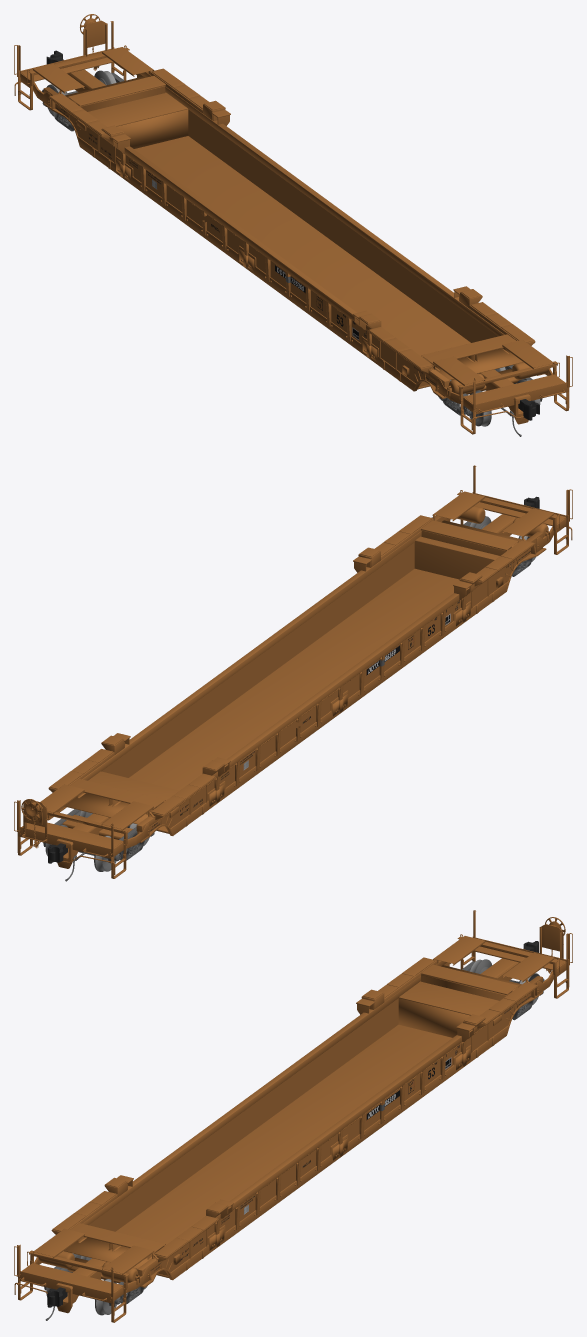
Rendered from wellcar_ttx.glb.
3 views of the same model, one above another, from view 1: azimuth 30°, elevation 25°; view 2: azimuth 150°, elevation 25°; view 3: azimuth 330°, elevation 25° (orthographic).
Parts seen in each view (by area): view 1: Body_Body.001; view 2: Body_Body.001, Truck_Rear_Truck_Rear.001; view 3: Body_Body.001.
Part boxes in pixels (x1,y1,x2,y2): Body_Body.001: [14, 14, 572, 436]; Body_Body.001: [14, 465, 572, 881]; Truck_Rear_Truck_Rear.001: [43, 809, 154, 862]; Body_Body.001: [14, 910, 572, 1322].
Bounding box in the file's own units: 3.41 × 2.11 × 24.9.
Materials: 18 (3 with a texture image).
